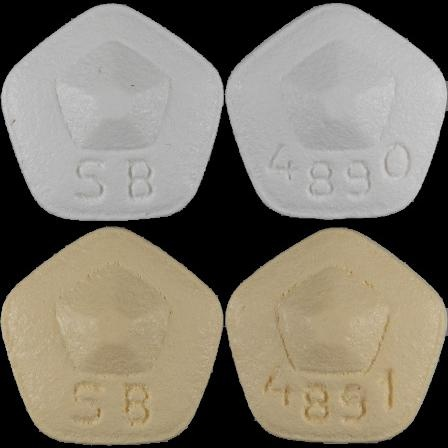0007-4890: (0, 0, 224, 224)
